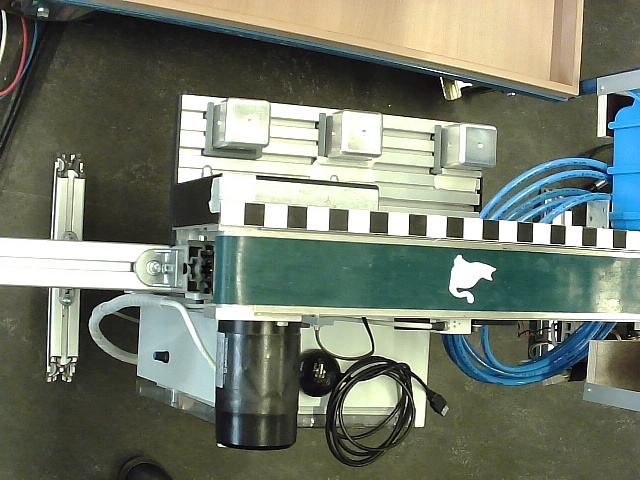cat: (448, 254, 498, 304)
